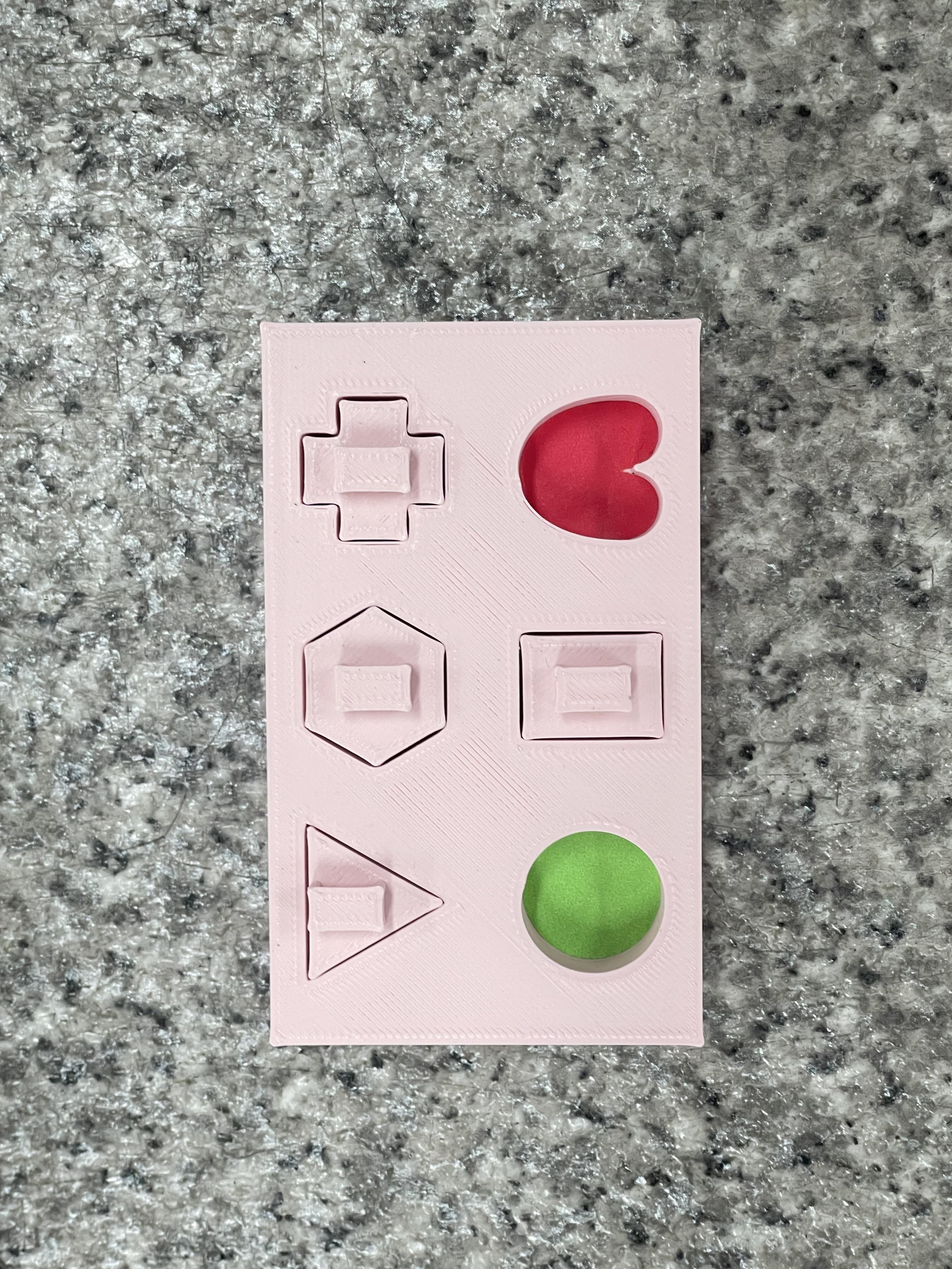unsolved: (246, 303, 730, 1054)
